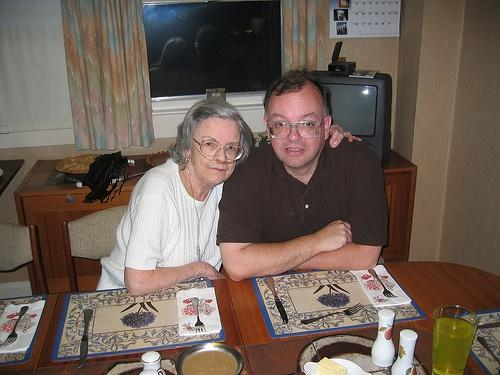tampered: (65, 152, 129, 203)
